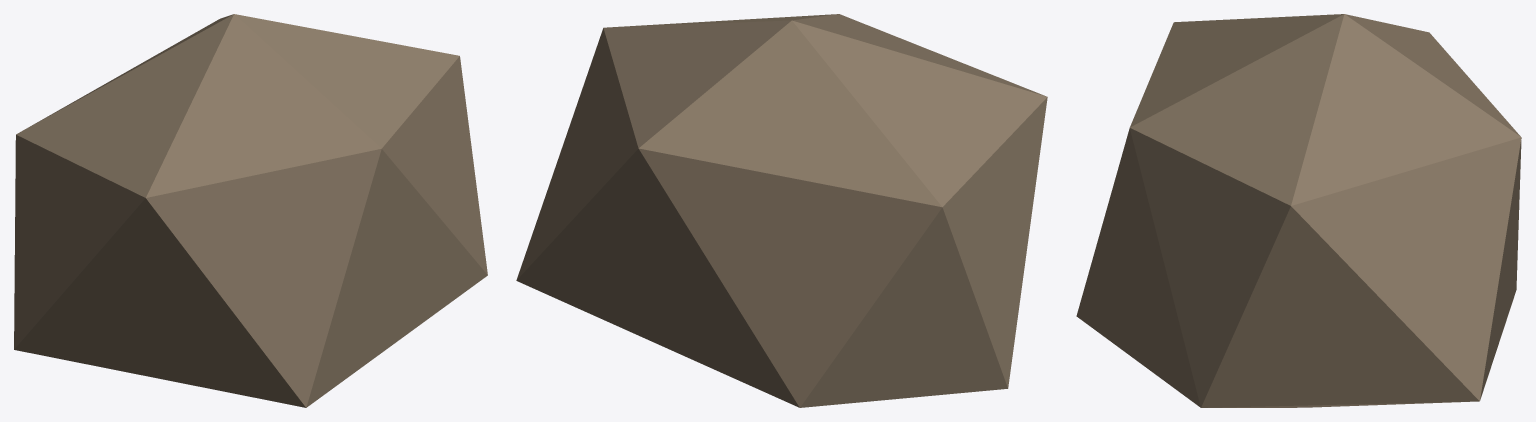
Rendered from rock_throw.glb.
3 views of the same model, side by side, from view 1: azimuth 30°, elevation 25°; view 2: azimuth 150°, elevation 25°; view 3: azimuth 270°, elevation 25° (orthographic). The views are drawn at different scales.
Visible parts, largest first — view 1: rock_throw; view 2: rock_throw; view 3: rock_throw.
Boxes of the visible parts, x1,y1,x2,y2 form: rock_throw: [14, 14, 487, 407]; rock_throw: [516, 14, 1047, 407]; rock_throw: [1076, 14, 1521, 407].
Size of the model in its own units: 0.1527 by 0.1234 by 0.1274.
